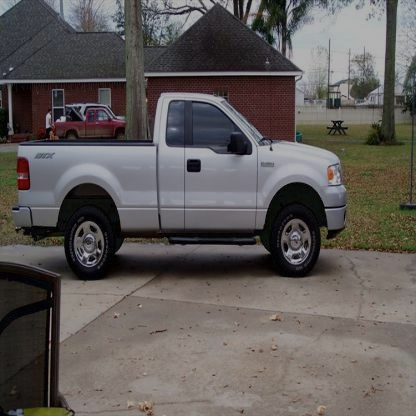Vehicle: (10, 90, 349, 284)
